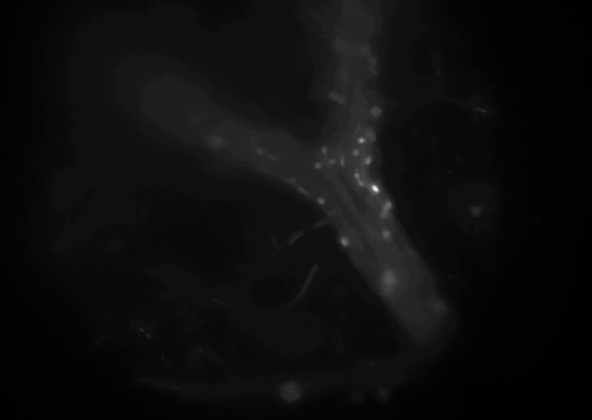cell: (368, 182, 382, 196), (354, 133, 368, 147), (371, 104, 385, 118), (349, 145, 363, 159), (362, 153, 376, 167), (316, 141, 330, 155), (311, 159, 325, 173), (324, 154, 338, 168), (326, 87, 340, 101), (349, 170, 363, 184), (333, 93, 347, 107), (353, 177, 367, 191), (337, 236, 351, 250), (382, 272, 396, 286), (380, 227, 394, 241), (381, 197, 395, 211), (377, 206, 391, 220), (379, 202, 393, 216), (312, 195, 326, 209), (379, 284, 393, 298), (287, 174, 301, 188), (253, 145, 267, 159), (207, 134, 221, 148), (432, 298, 446, 312), (358, 43, 372, 57), (366, 53, 380, 67), (335, 39, 349, 53), (365, 128, 379, 142)
